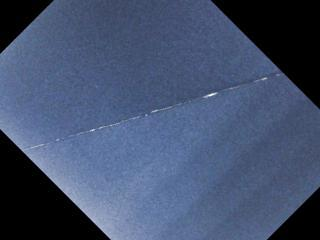crack: (21, 65, 284, 160)
